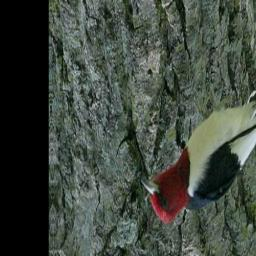Woodpecker: (133, 53, 256, 237)
